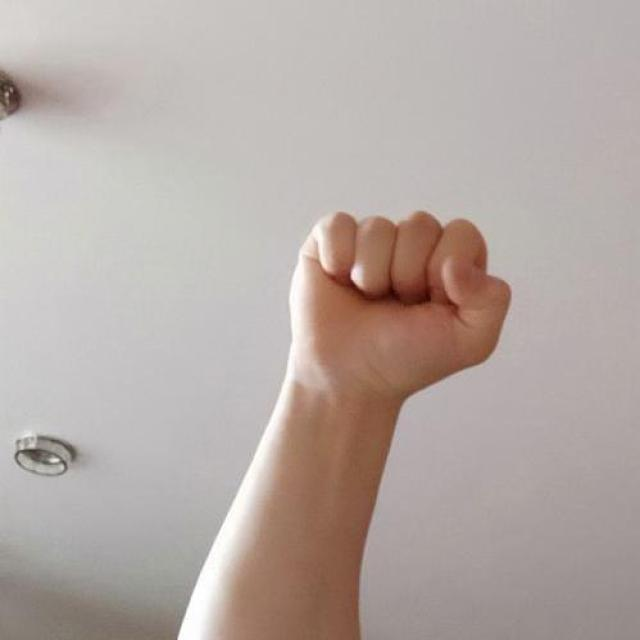hand: (286, 207, 512, 405)
